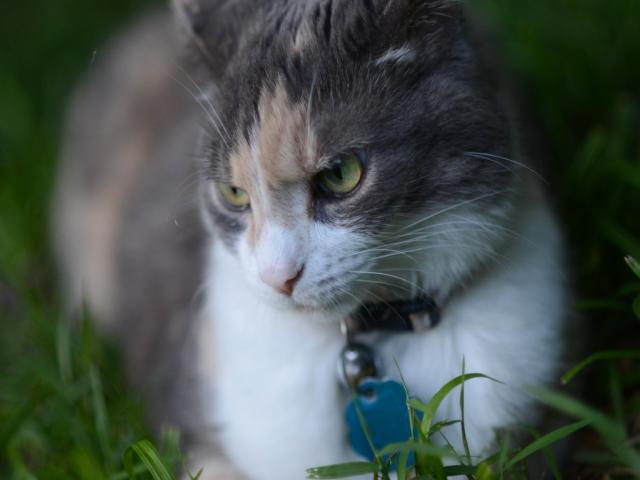Cat: (45, 0, 575, 480)
